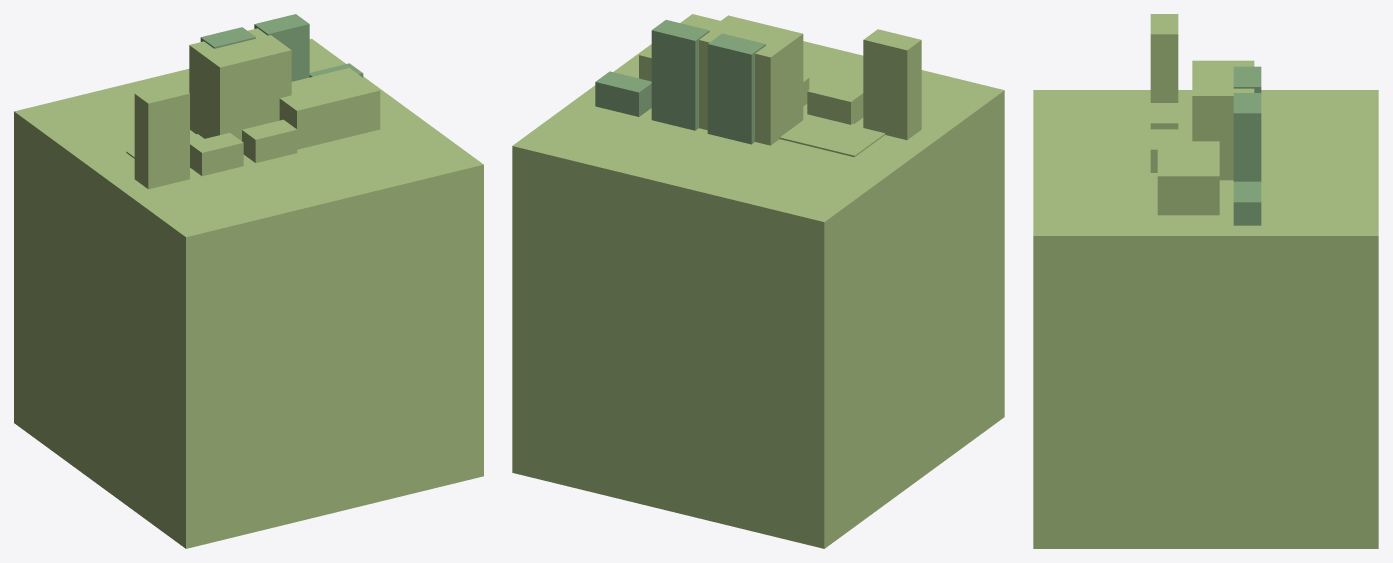
Rendered from plant.gltf.
3 renders of one model, left to right at view 1: azimuth 30°, elevation 25°; view 2: azimuth 150°, elevation 25°; view 3: azimuth 270°, elevation 25°, orthographic. The views are drawn at different scales.
Parts seen in each view (by area): view 1: body, leafC, leafR, leaf_detail_5, leaf_detail_7, leaf_detail_8, leaf_detail_1, leaf_detail_2; view 2: body, leafC, leaf_detail_5, leaf_detail_2, leaf_detail_8, leafL, leaf_detail_4, leaf_detail_1; view 3: body, leafR, leafC, leaf_detail_5, leaf_detail_8, leaf_detail_4, leaf_detail_1, leaf_detail_2, leaf_detail_7.
Part boxes in pixels (x1,y1,x2,y2): body: (14, 39, 483, 548); leafC: (189, 28, 291, 140); leafR: (279, 68, 380, 149); leaf_detail_5: (134, 83, 189, 189); leaf_detail_7: (242, 119, 297, 162); leaf_detail_8: (254, 14, 309, 81); leaf_detail_1: (190, 132, 243, 176); leaf_detail_2: (200, 27, 255, 48); body: (512, 14, 1004, 548); leafC: (699, 15, 803, 145); leaf_detail_5: (863, 29, 921, 139); leaf_detail_2: (707, 33, 765, 144); leaf_detail_8: (651, 20, 709, 130); leafL: (779, 111, 885, 157); leaf_detail_4: (595, 71, 651, 116); leaf_detail_1: (807, 81, 863, 124); body: (1033, 90, 1378, 548); leafR: (1157, 135, 1219, 215); leafC: (1192, 60, 1254, 180); leaf_detail_5: (1150, 14, 1178, 102); leaf_detail_8: (1233, 93, 1261, 181); leaf_detail_4: (1233, 181, 1261, 225); leaf_detail_1: (1150, 103, 1178, 129); leaf_detail_2: (1233, 66, 1261, 92); leaf_detail_7: (1150, 129, 1178, 172).
Bounding box in the file's own units: 1 × 1.32 × 1.
